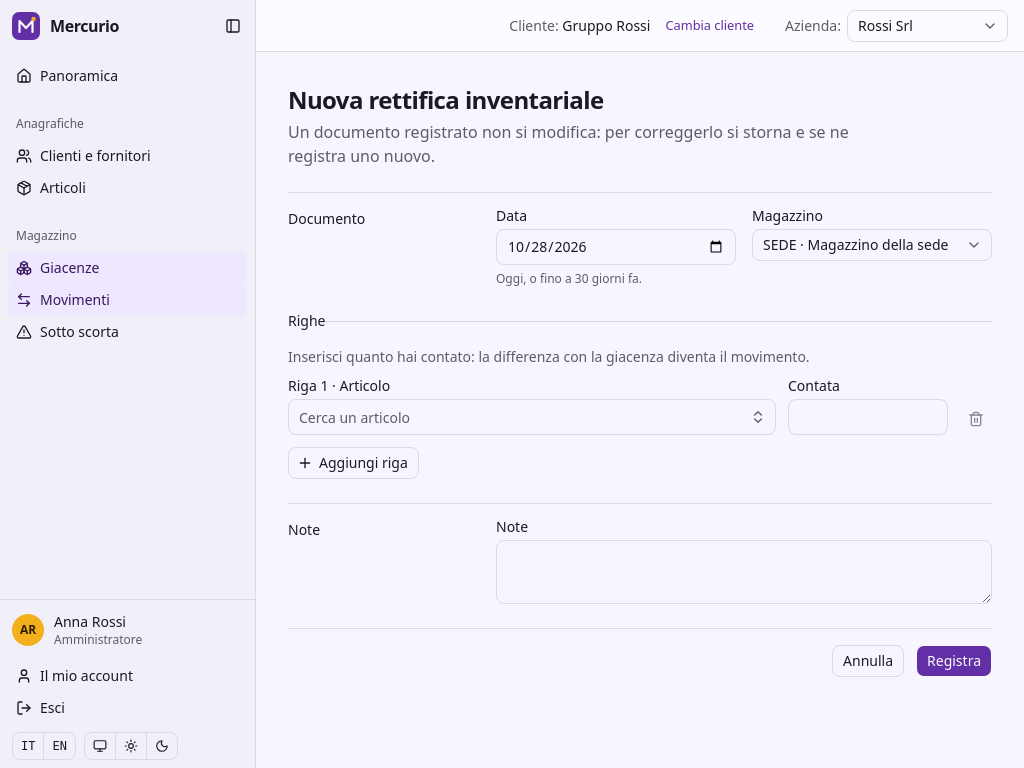
Test: warehouse › shows the difference an inventory count will make
The width and height of the screenshot is (1024, 768).
Click the dropdown labelled "Riga 1 · Articolo".
click(532, 417)  # box [288,399,776,435]
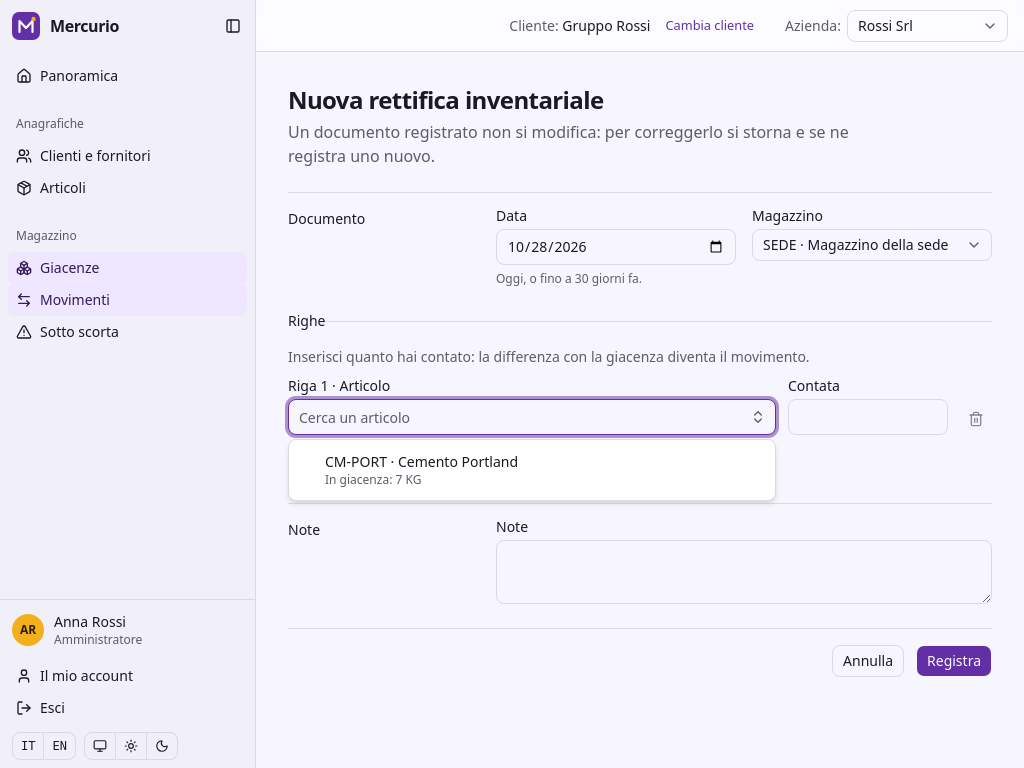
Click the option "CM-PORT · Cemento Portland In giacenza: 7 KG".
click(422, 470)  # box [325,452,518,488]
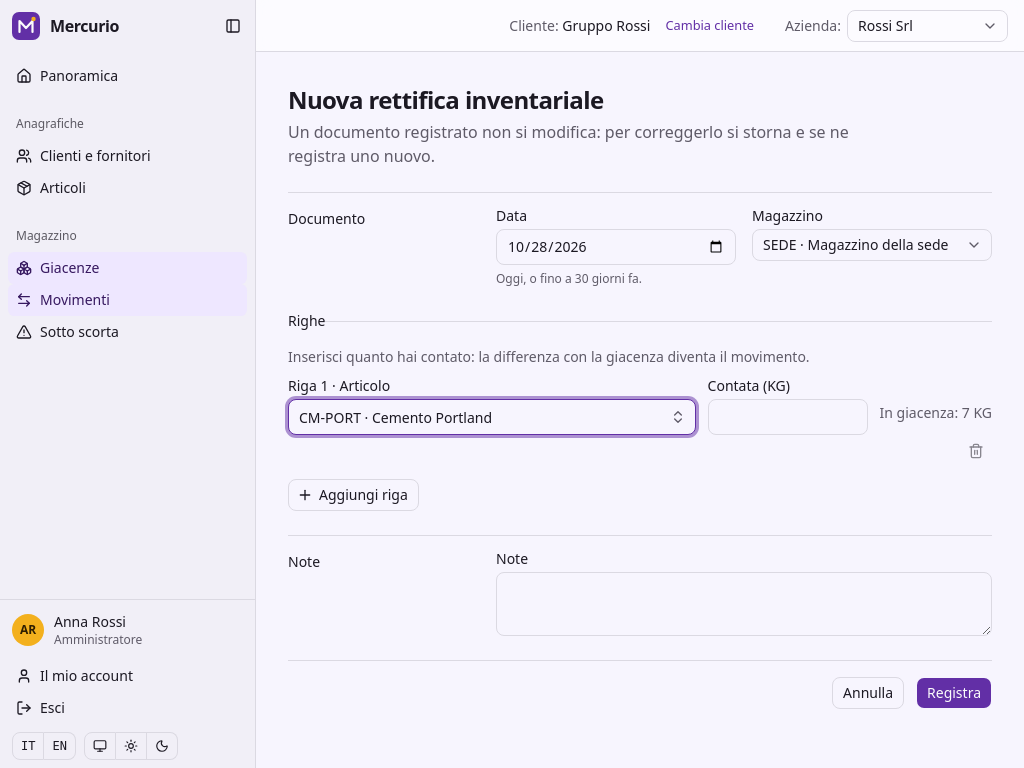
Type "4,5" into the field labelled "Contata (KG)".
click(788, 417); type("4,5")  # box [708,399,868,435]
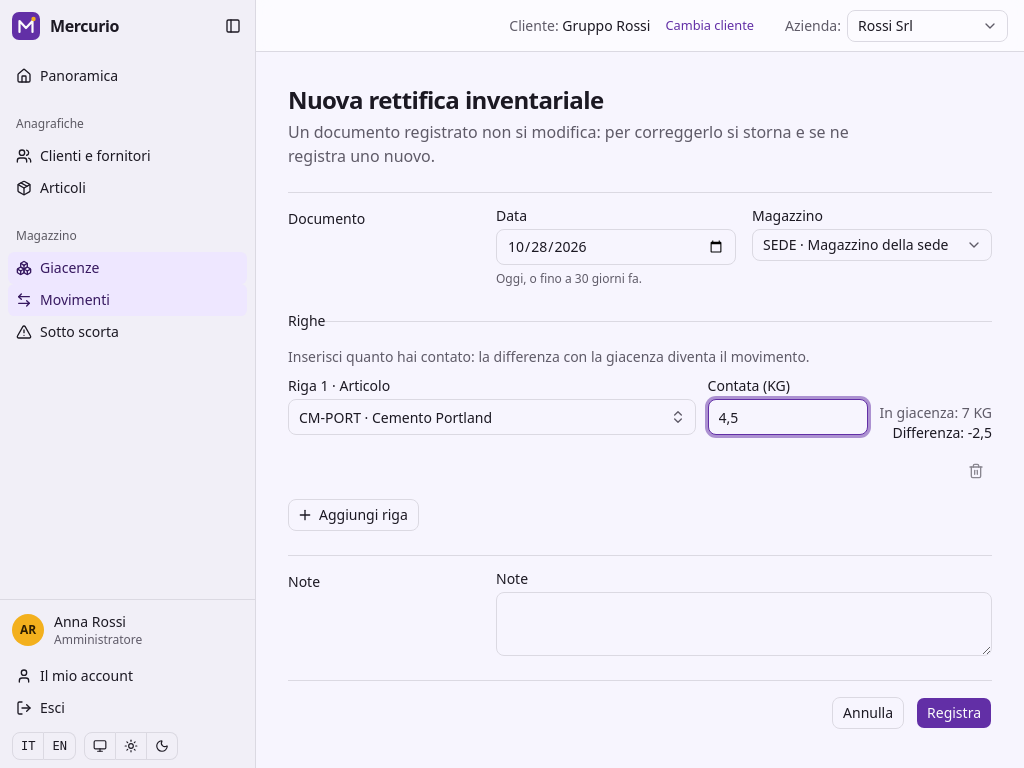
expect the text "In giacenza: 7 KG Differenza: -2,5" is shown: met, box [880,403,992,443]
expect the text "Differenza: -2,5" is shown: met, box [880,423,992,443]
